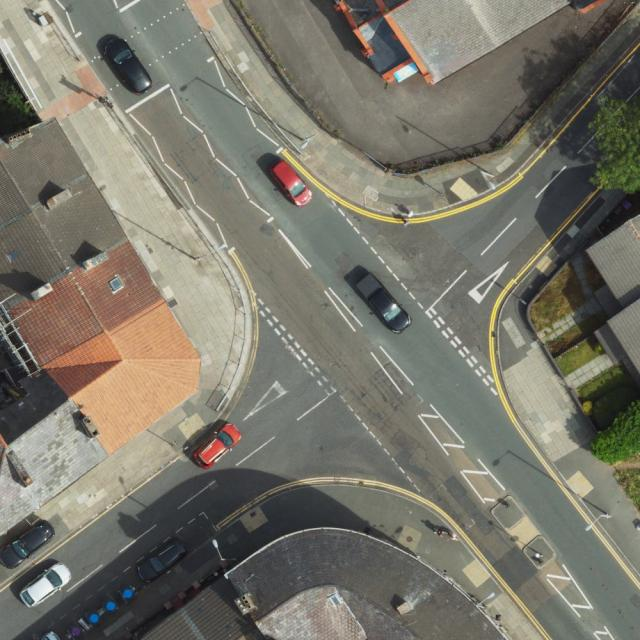roof: (0, 119, 202, 535), (141, 528, 510, 639), (360, 0, 575, 84), (587, 215, 640, 374)
skylight: (106, 274, 126, 294), (327, 591, 344, 609), (8, 248, 23, 264)
